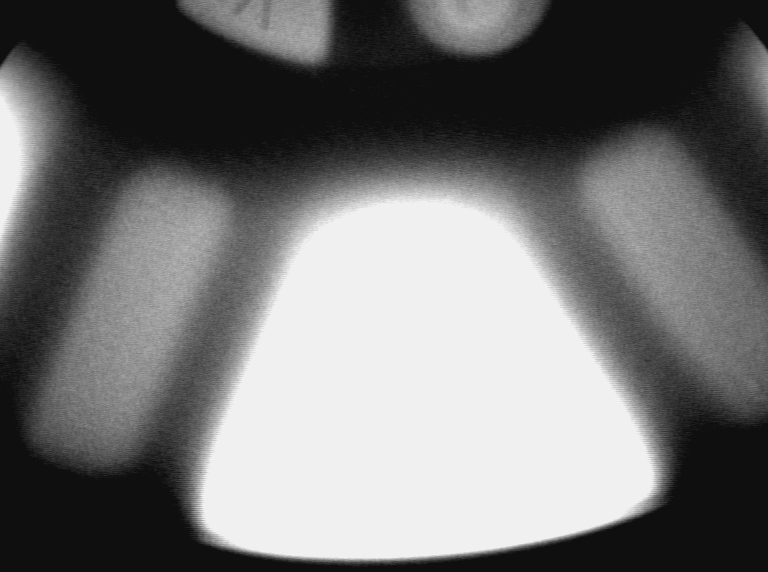defect: (742, 372, 765, 410)
